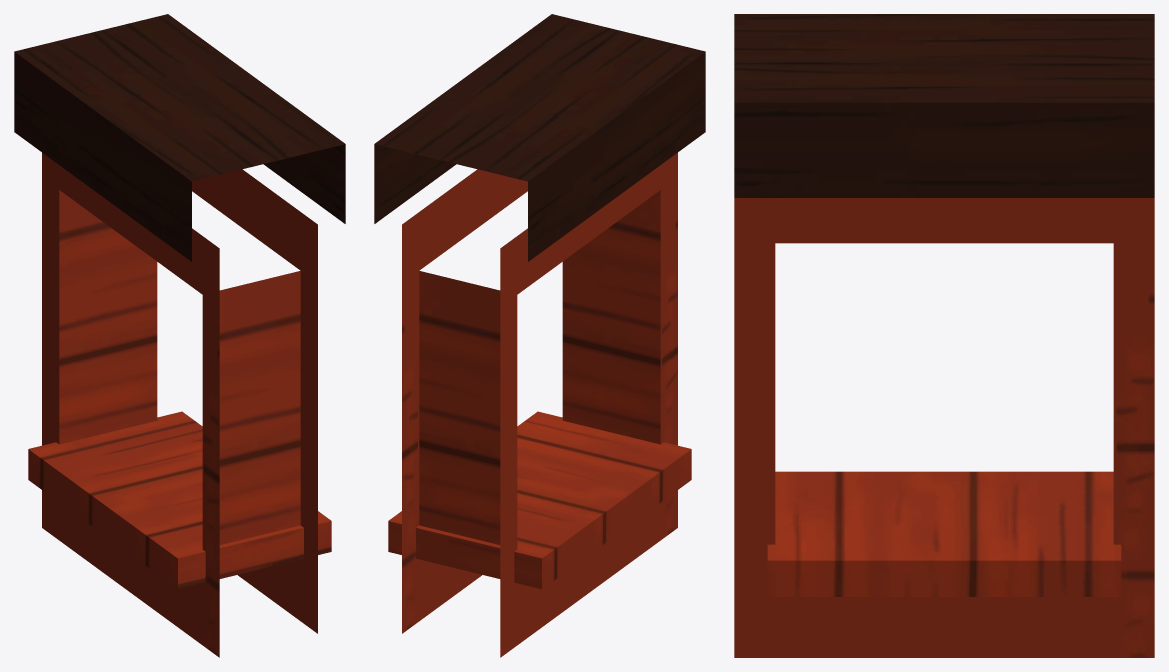
Rendered from Boat_Side_Small.fbx.
3 renders of one model, left to right at view 1: azimuth 30°, elevation 25°; view 2: azimuth 150°, elevation 25°; view 3: azimuth 270°, elevation 25°, orthographic. The views are drawn at different scales.
Visible parts, largest first — view 1: Boat_Side_Small; view 2: Boat_Side_Small; view 3: Boat_Side_Small.
Boxes of the visible parts, x1,y1,x2,y2 form: Boat_Side_Small: (14,14,345,657); Boat_Side_Small: (374,14,705,657); Boat_Side_Small: (734,14,1154,657).
Bounding box in the file's own units: 0.5 × 1.5 × 1.
1 material, 1 textured.
